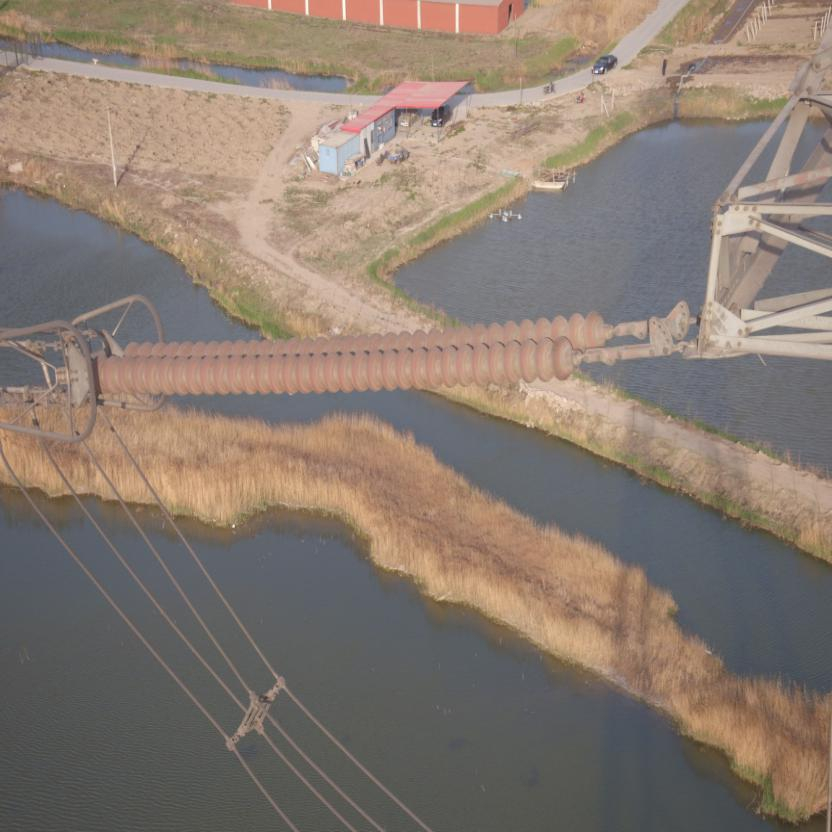insulator: (80, 308, 636, 396)
